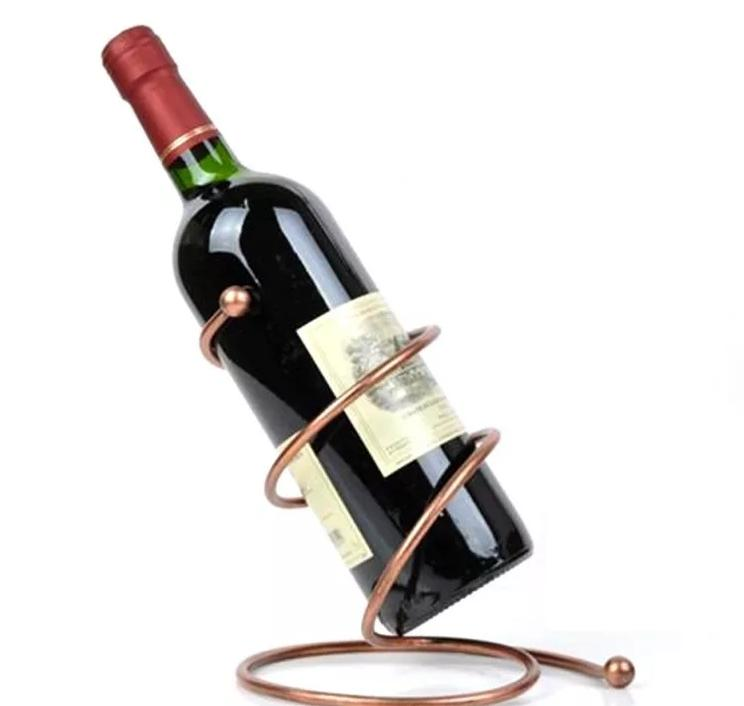wine bottle: (99, 23, 534, 640)
wine label: (292, 290, 467, 479)
